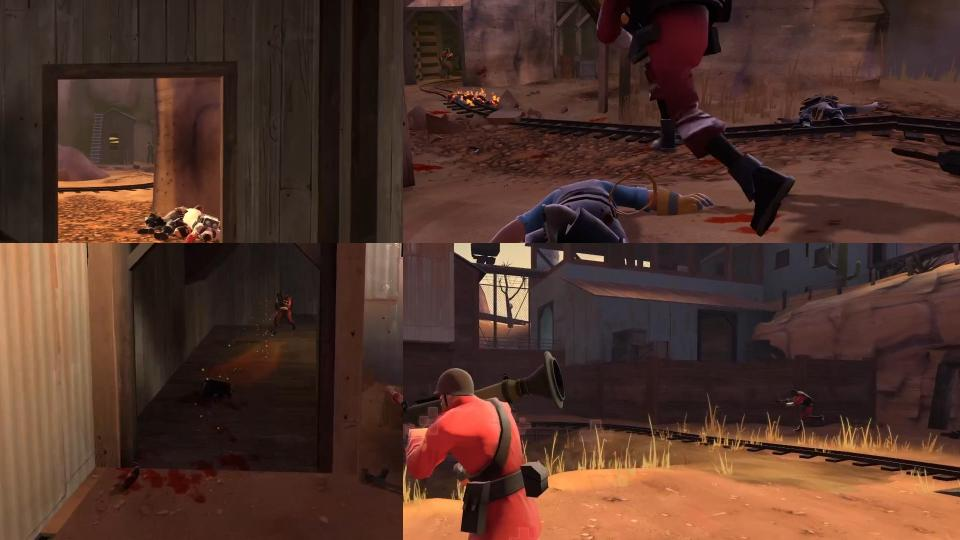Enemy: (592, 0, 803, 239), (403, 349, 567, 540), (433, 173, 715, 243), (773, 93, 889, 129), (775, 388, 827, 432), (269, 288, 301, 336), (383, 368, 403, 429), (439, 48, 455, 79), (146, 141, 155, 165)
